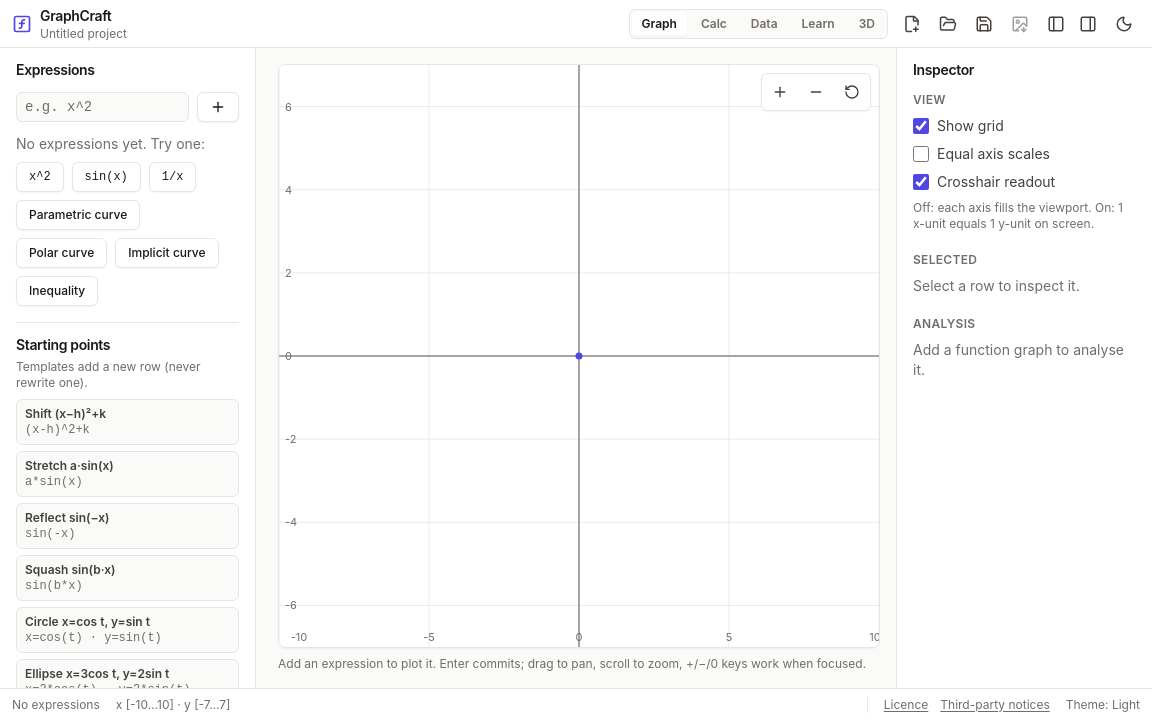
Test: calculator workspace › switches between graph and calculator views
Click the button with aria-label "Show calculator" at (714, 24), box [691,12,737,36]
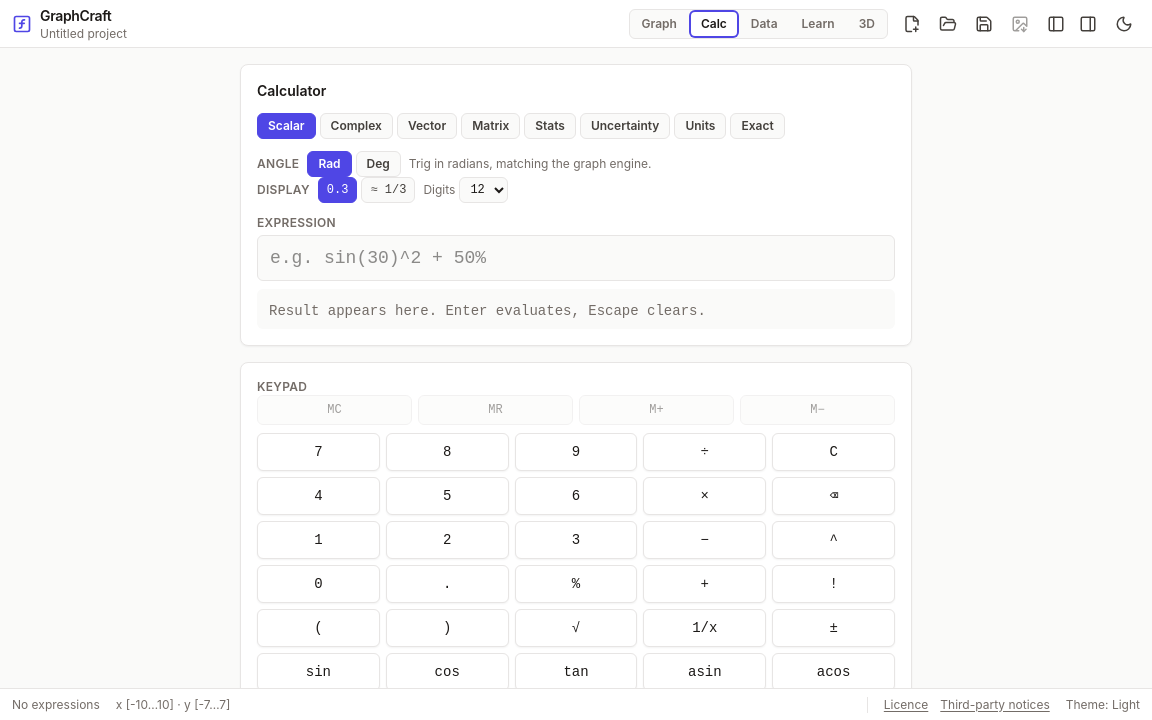
Check: the element "Calculator" is shown
Check: the field labelled "Expression" is shown, box [257,235,895,281]
Click the button with aria-label "Show graph studio" at (659, 24), box [632,12,687,36]
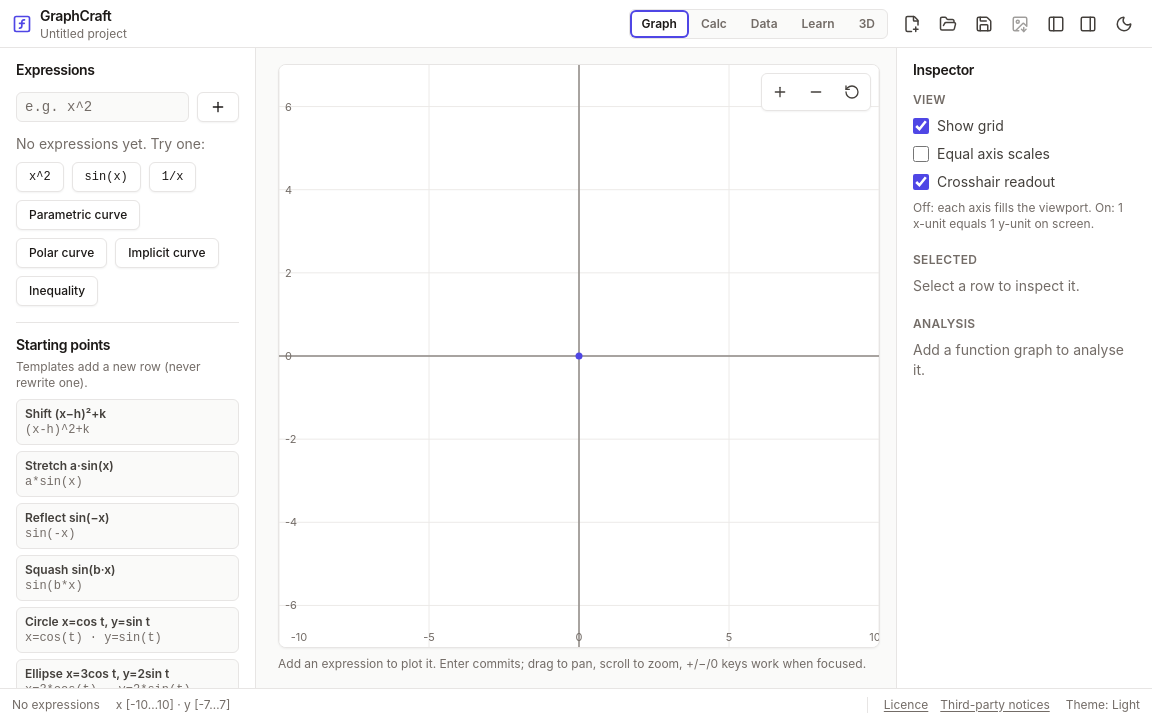
Check: the element named "Graph viewport" is shown, box [262,48,896,688]
